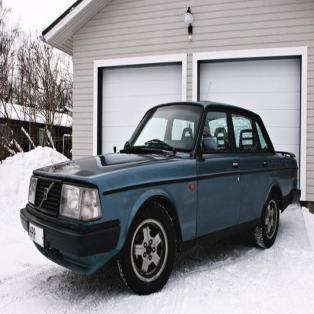Auto: (19, 79, 302, 294)
